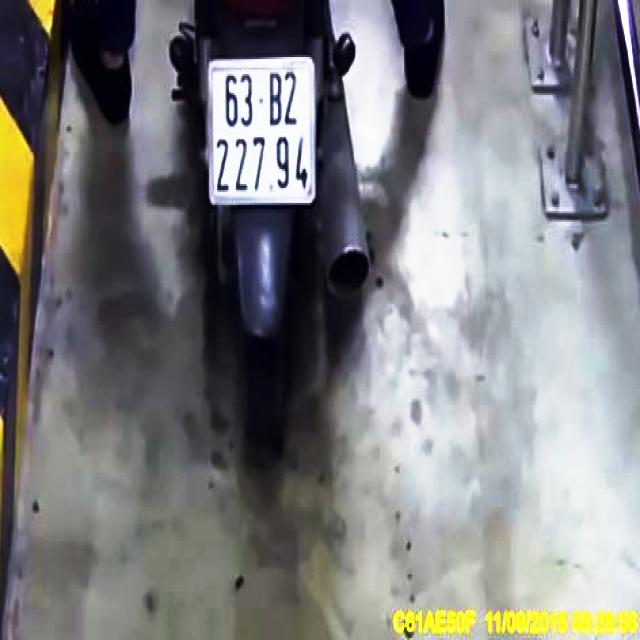license_plate: (213, 60, 317, 205)
